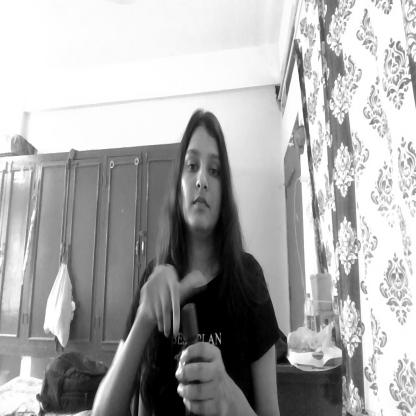Normal: (177, 110, 231, 242)
